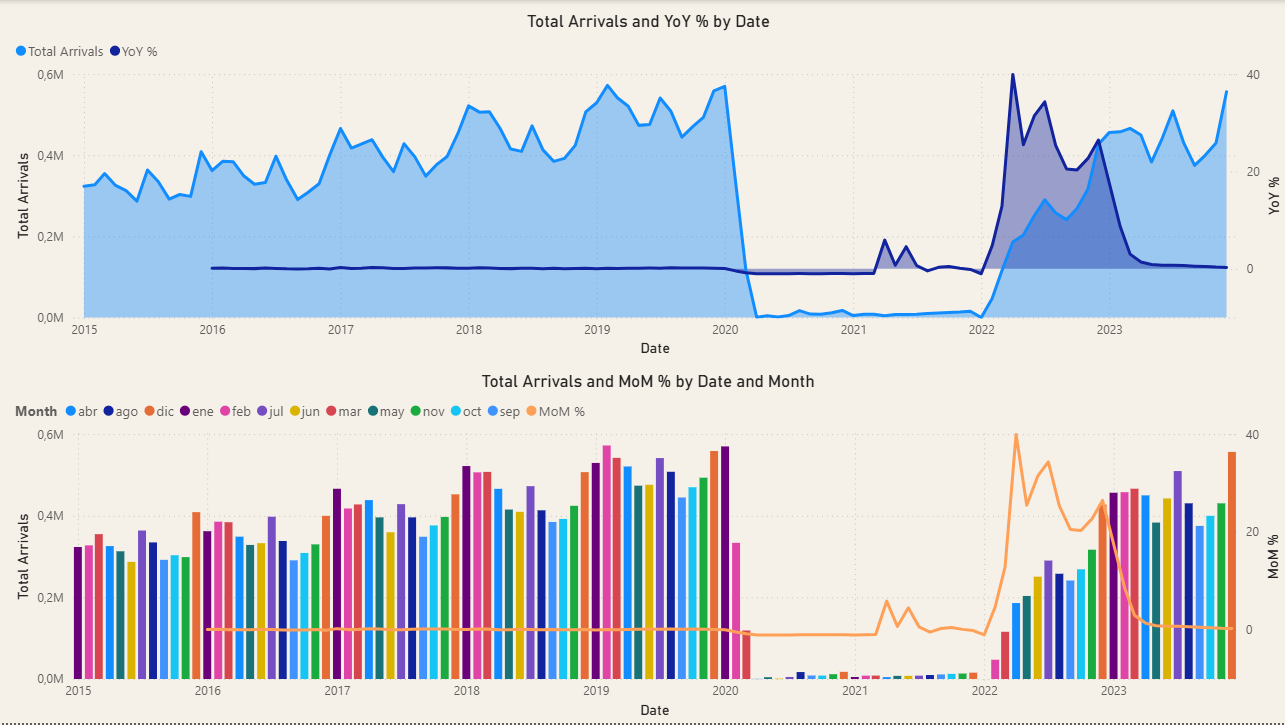

Layout of this report page (visuals, bound fields, positions):
{"tool":"powerbi","page":{"name":"YoY adn MoM","canvas":[1280,720],"ordinal":3},"visuals":[{"type":"areaChart","fields":{"Category":["Dim_Date.Date"],"Y":["Measures (2).Total Arivals"],"Y2":["Measures (2).YoY %"]},"box":[9.6,0,1270.7,359.5],"z":0},{"type":"lineStackedColumnComboChart","fields":{"Y":["Measures (2).Total Arivals"],"Y2":["Measures (2).MoM %"],"Category":["Dim_Date.Date"],"Series":["Dim_Date.Month"]},"box":[10,370,1270,350],"z":1000}]}

Visuals, with their boxes in screenshot pixels (x1, y1, x2, y2), scaled from the page's 1280x720 canvas onto the 1285x725 screenshot:
areaChart - Dim_Date.Date x Measures (2).Total Arivals: Rect(10, 0, 1284, 362)
lineStackedColumnComboChart - Measures (2).Total Arivals x Measures (2).MoM %: Rect(10, 373, 1284, 724)
